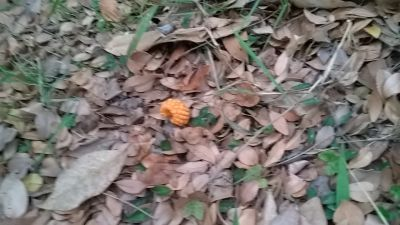eggs: (161, 98, 190, 126)
